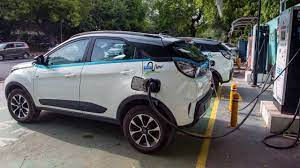Tata Nexon: (3, 29, 216, 156)
